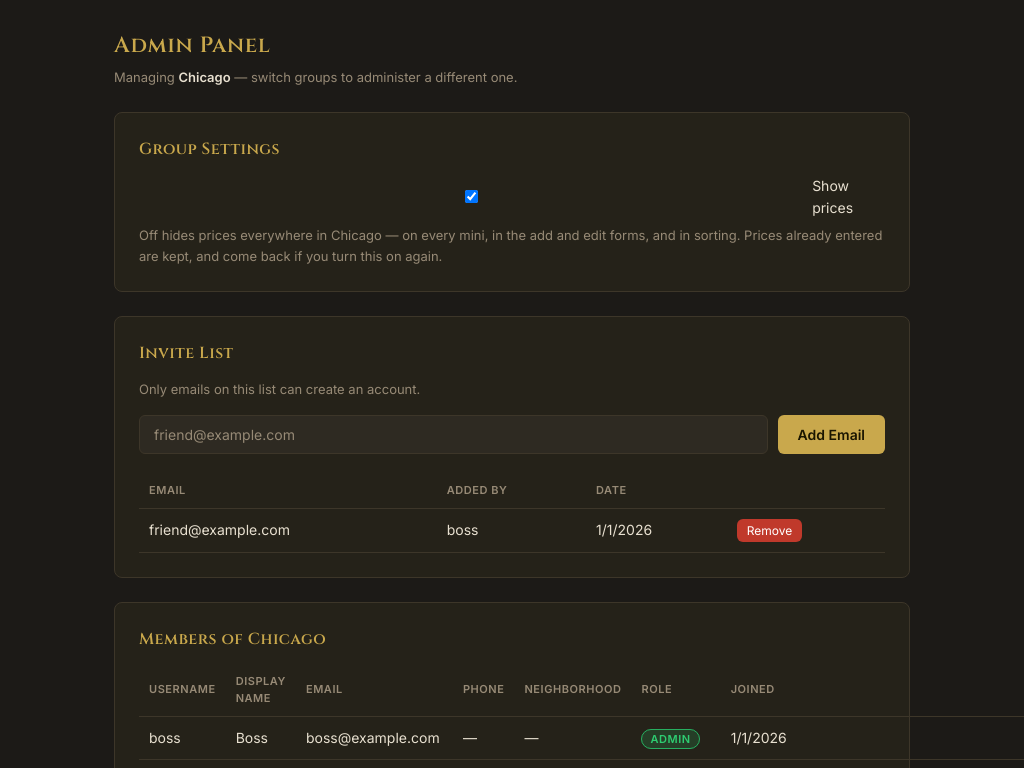
Test case: AdminPage — group settings › turns prices off for the group, then reloads the group so every page follows
The width and height of the screenshot is (1024, 768).
Click the checkbox labelled "Show prices" at (472, 197), box [139, 190, 804, 204]
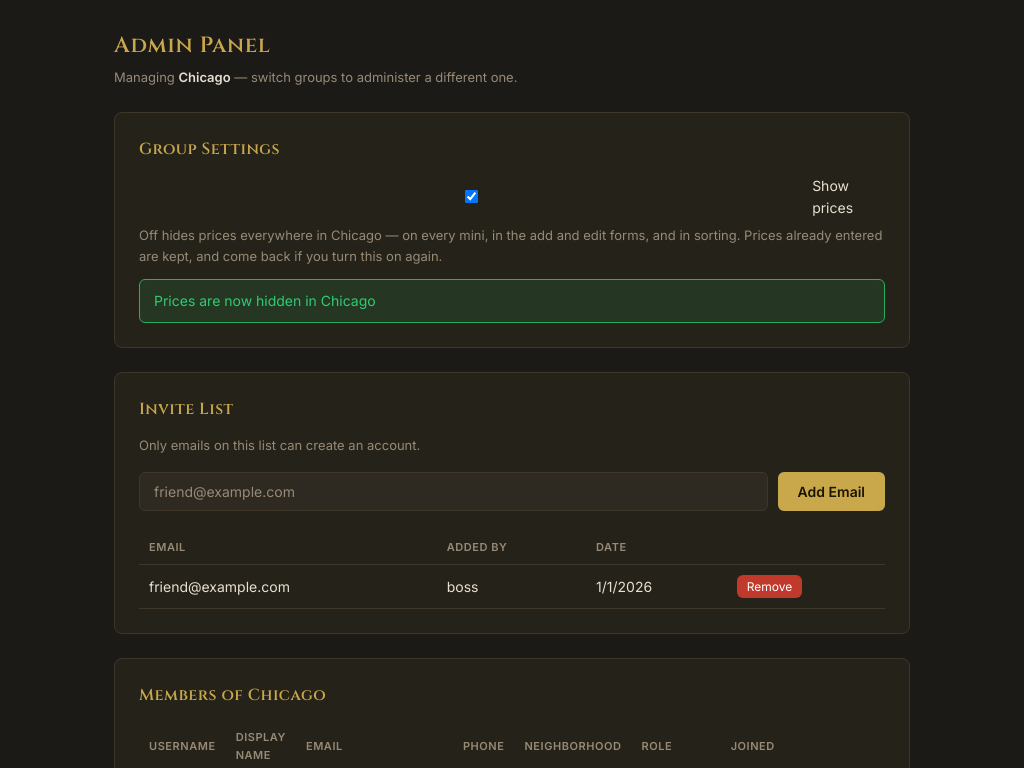
Check: the text "Prices are now hidden in Chicago" is shown, box [139, 279, 885, 323]
